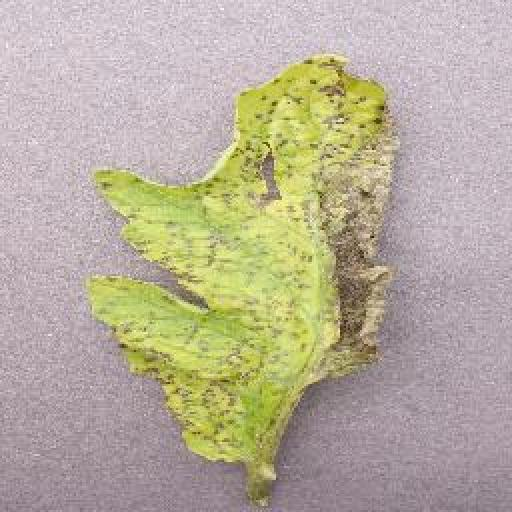disease_tomato: (84, 46, 396, 464)
